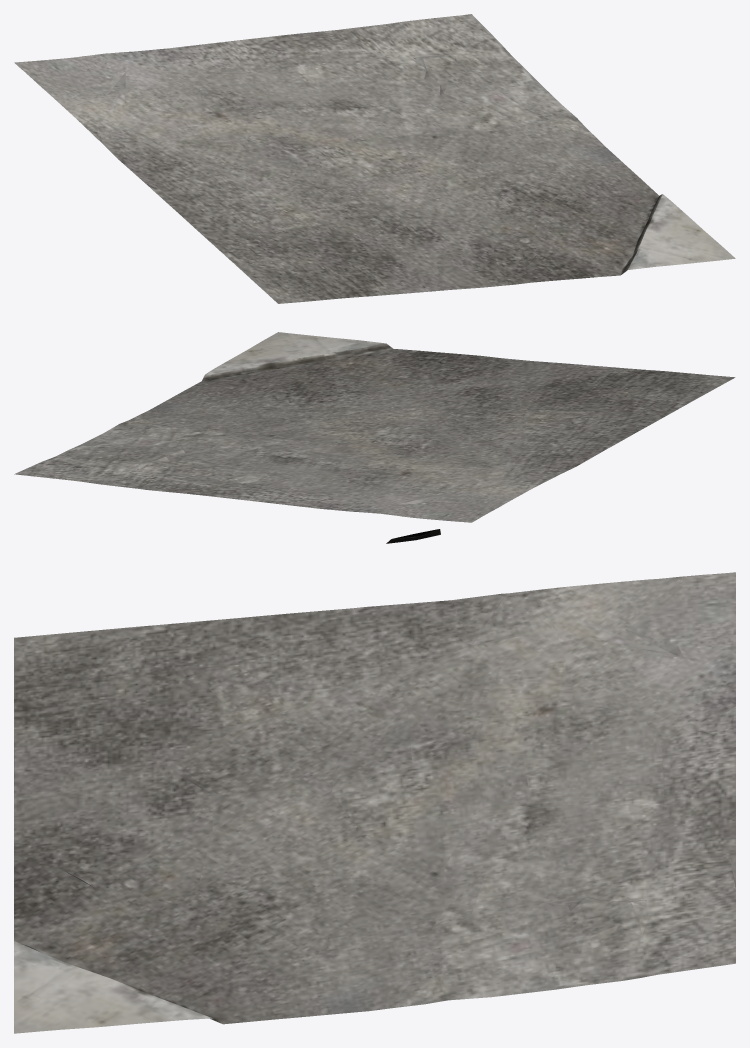
3 views of the same model, one above another, from view 1: azimuth 30°, elevation 25°; view 2: azimuth 150°, elevation 25°; view 3: azimuth 270°, elevation 25° (orthographic). The views are drawn at different scales.
Bounding box in the file's own units: 3.35 × 0.8003 × 3.35.
Materials: 3 (3 with a texture image).
